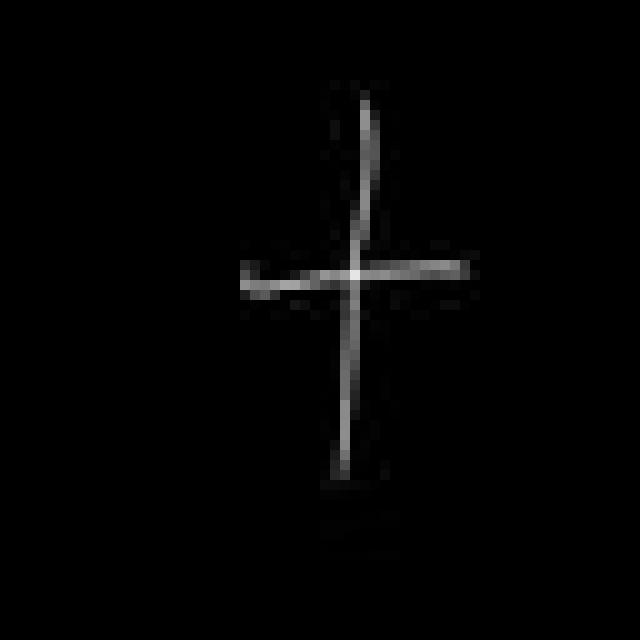10 -ten-: (225, 85, 479, 488)
